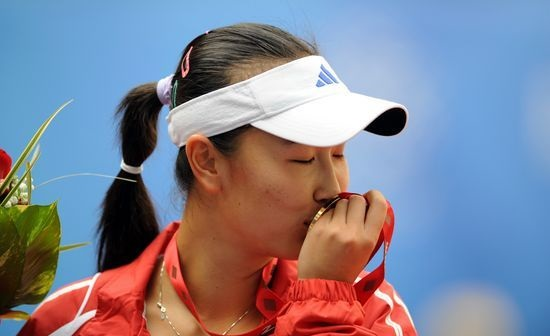face: (241, 99, 350, 258)
